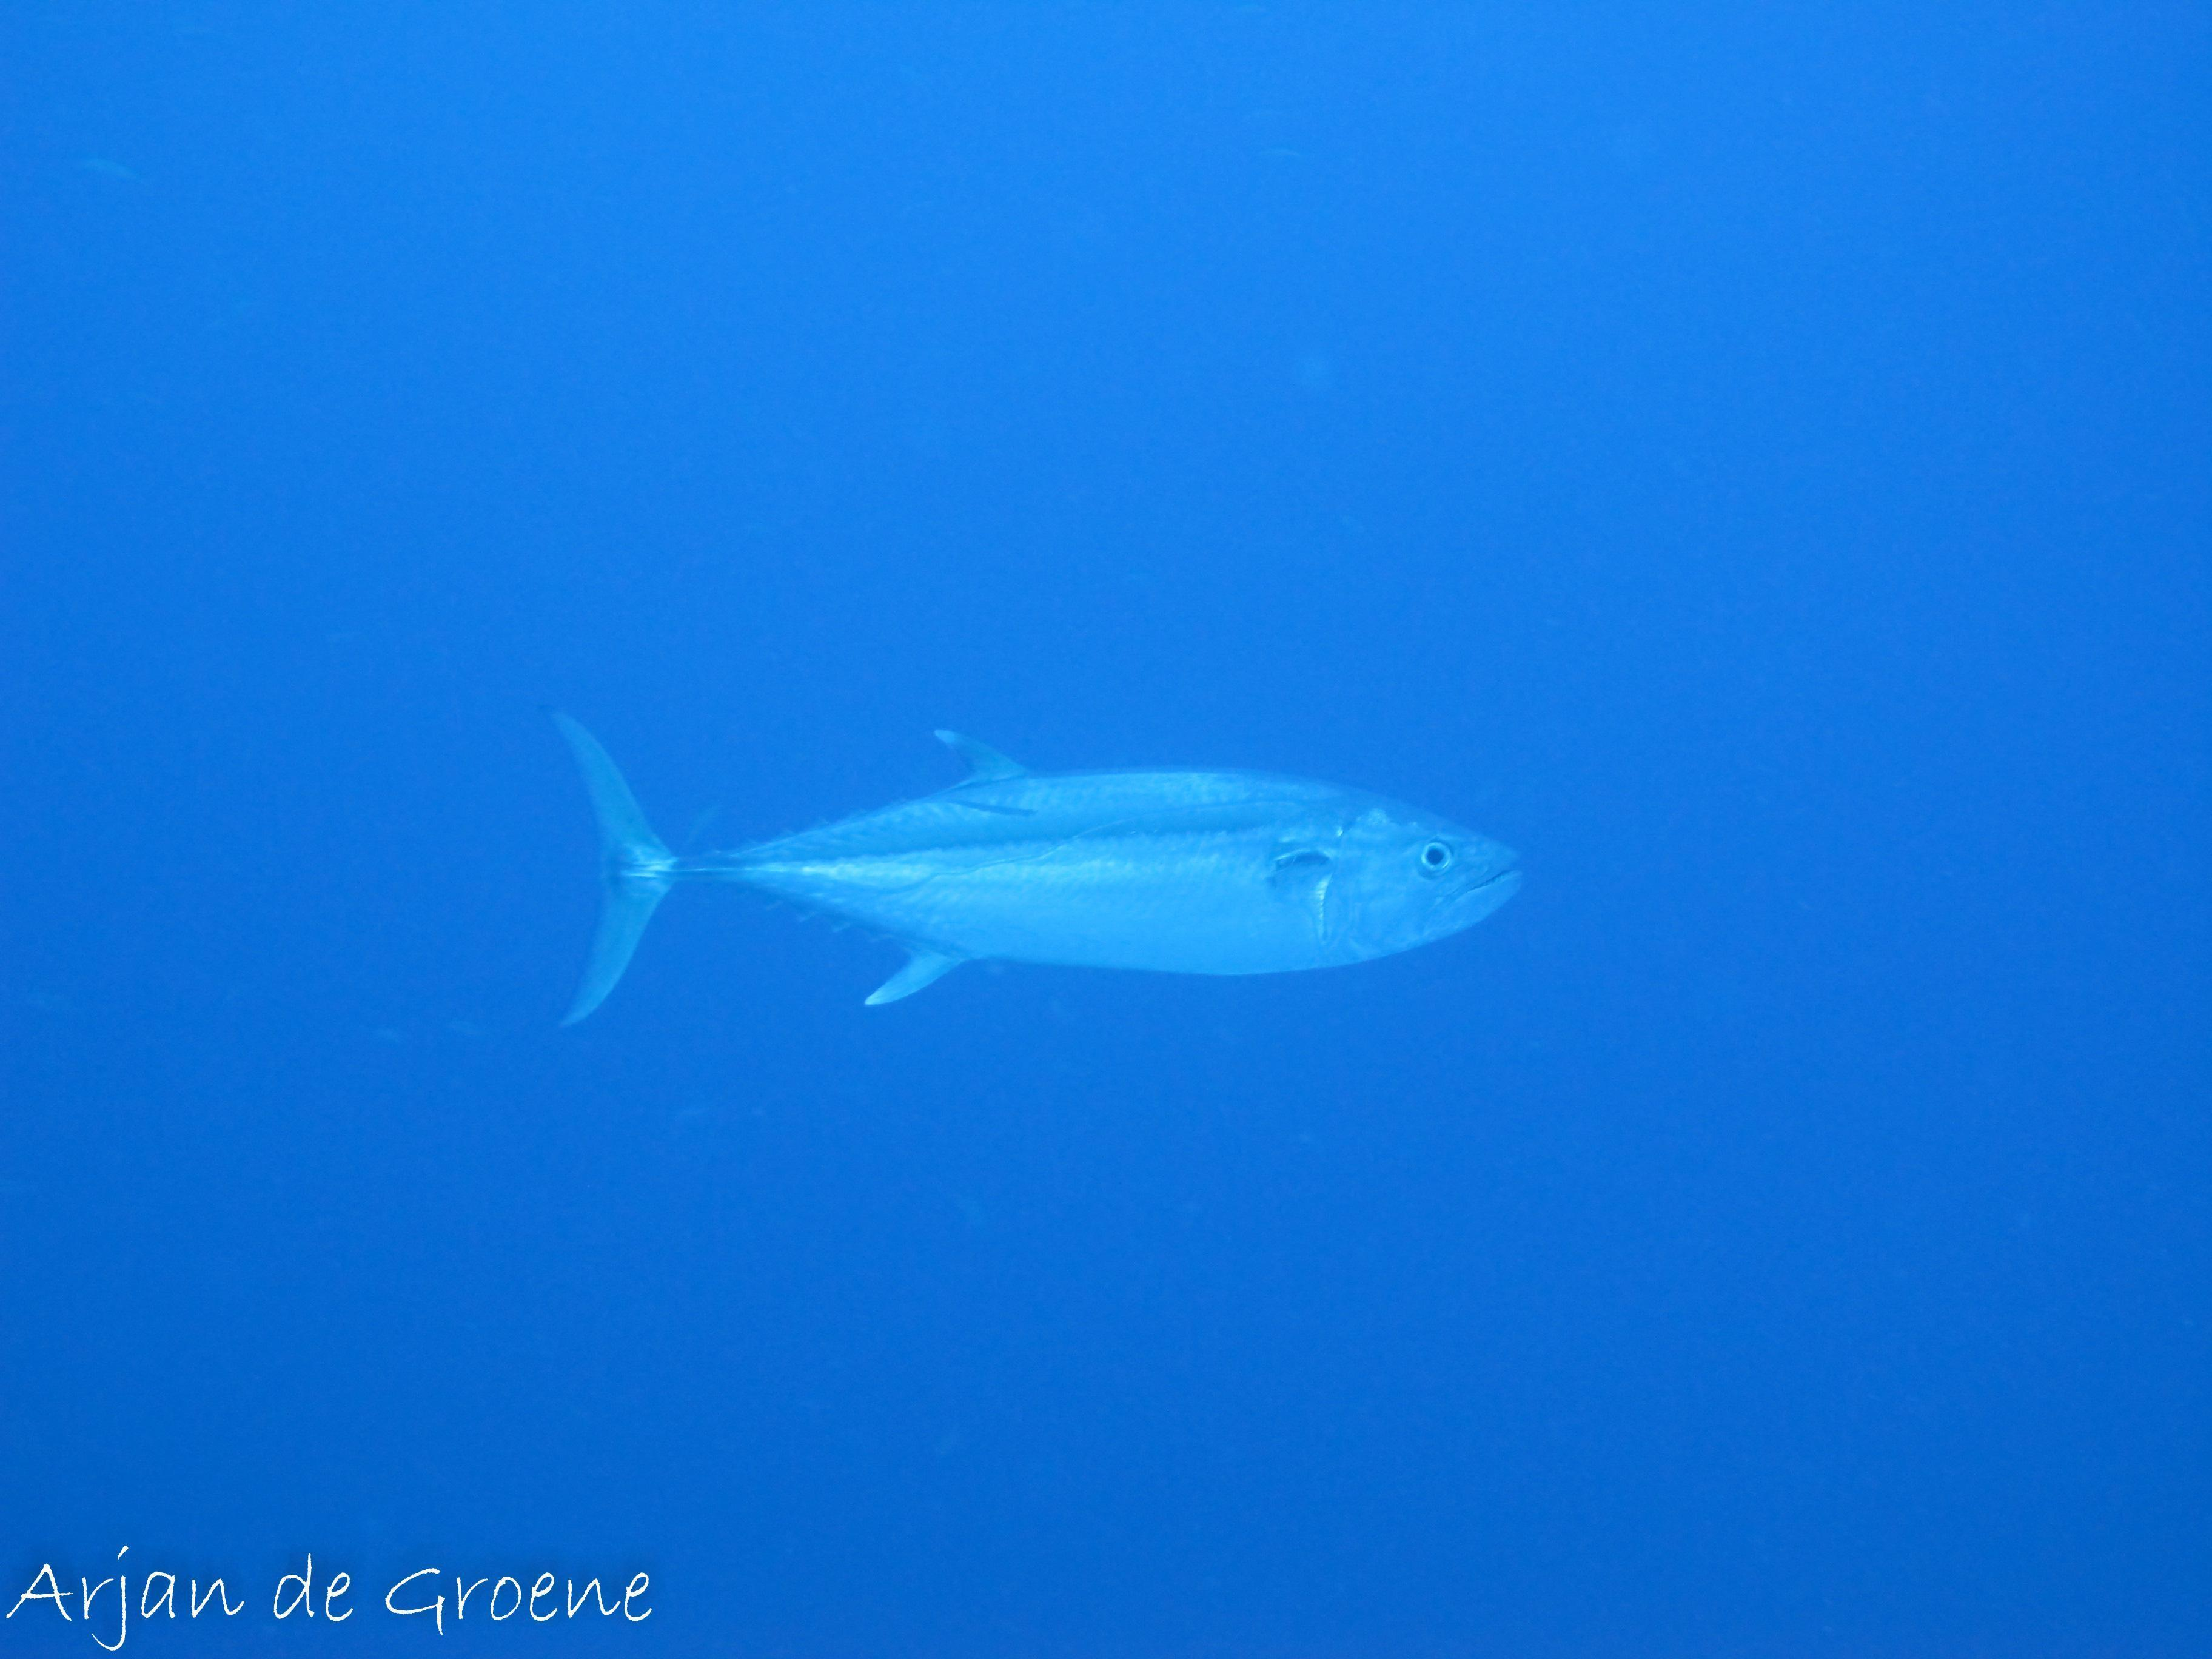Fish: (519, 687, 1550, 1058)
